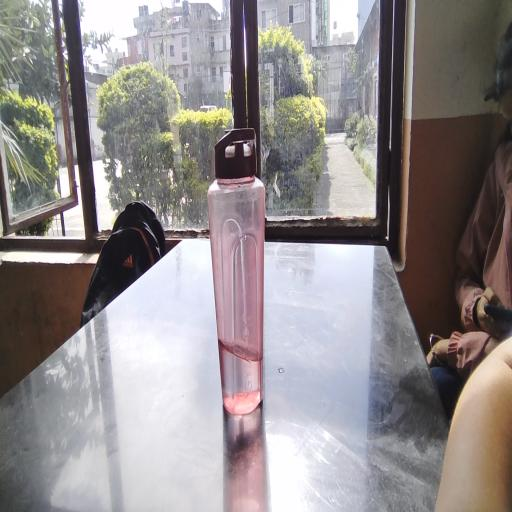Bottle: (209, 127, 283, 462)
